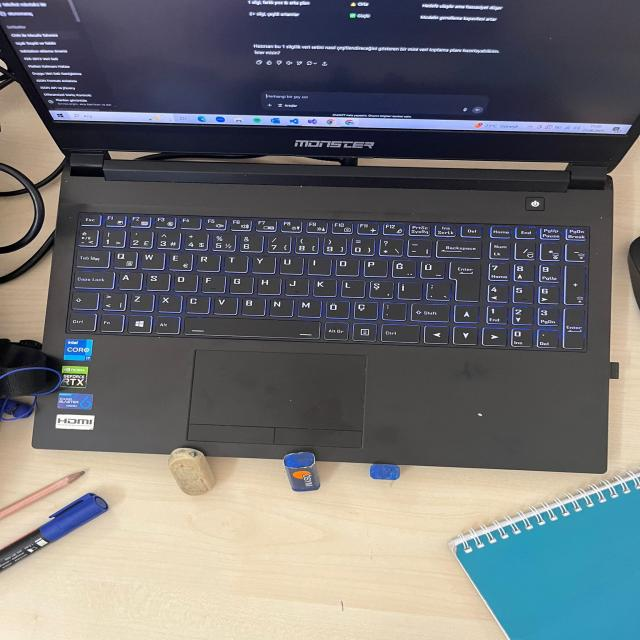eraser: (151, 443, 223, 507), (272, 448, 326, 499), (362, 459, 410, 492)
pencil: (0, 485, 113, 582), (0, 452, 93, 504)
